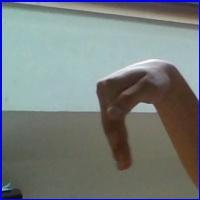A: (89, 55, 191, 181)
